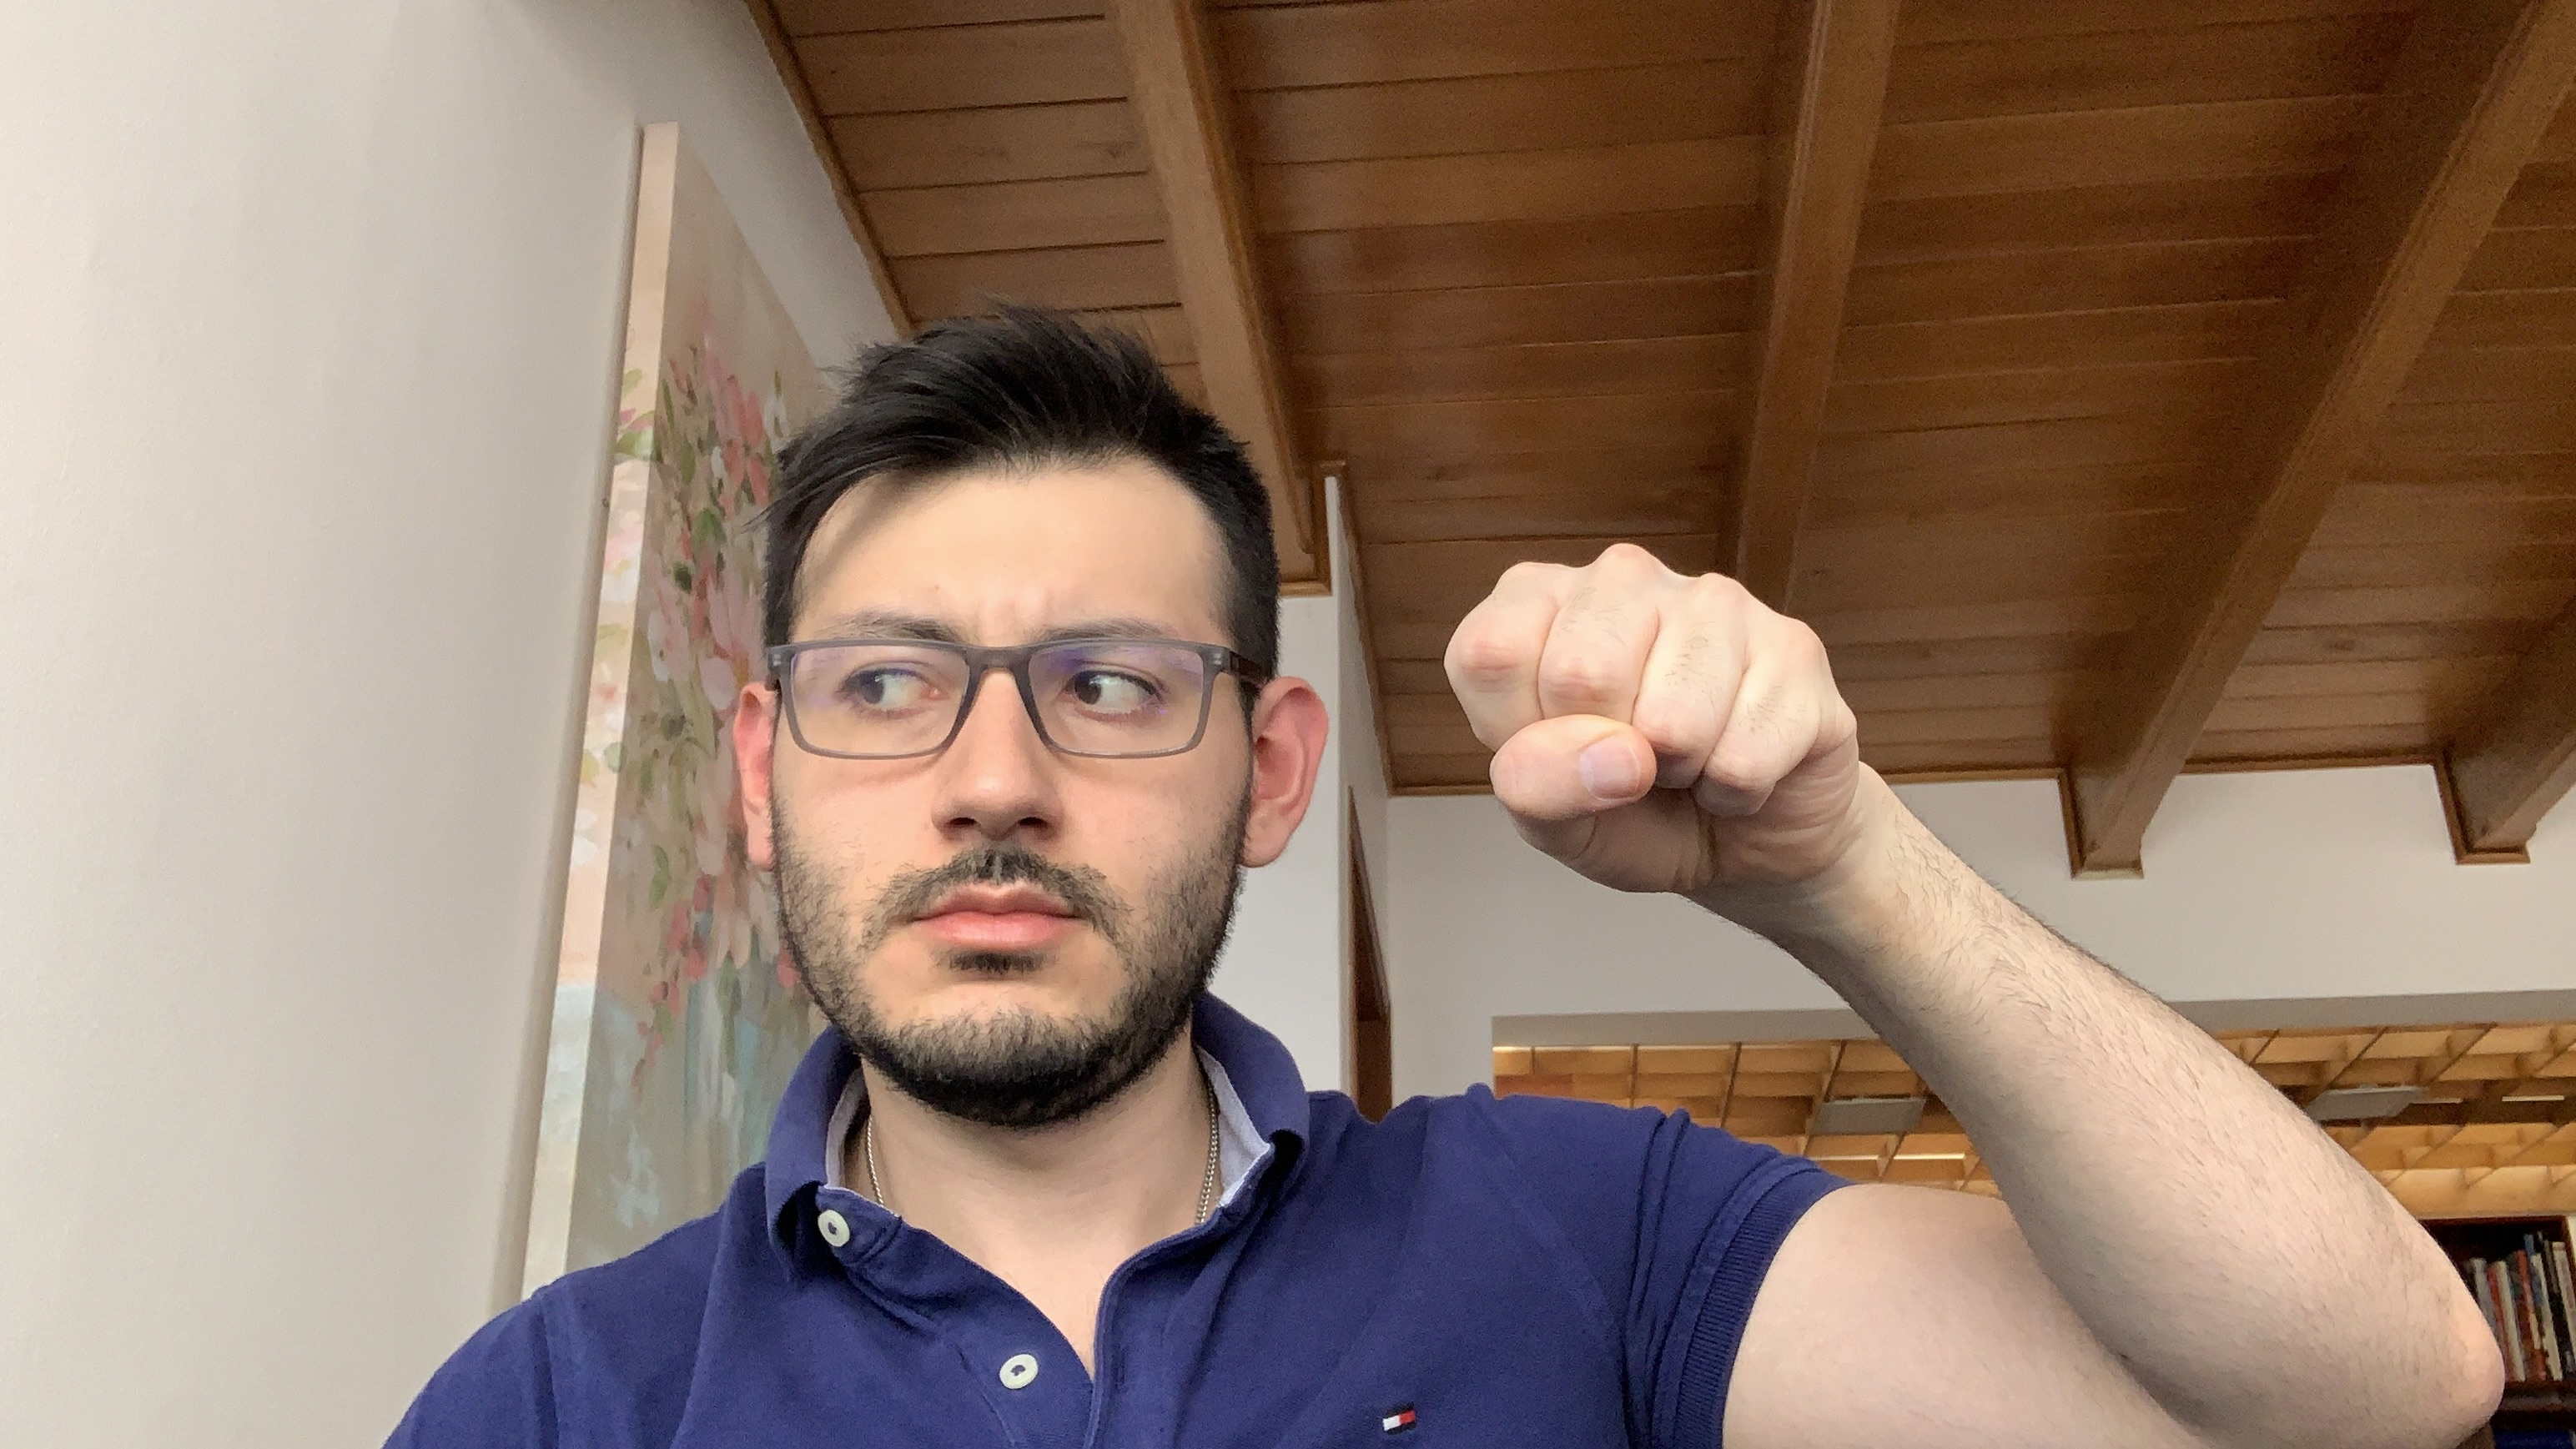Yes: (1424, 525, 1898, 925)
